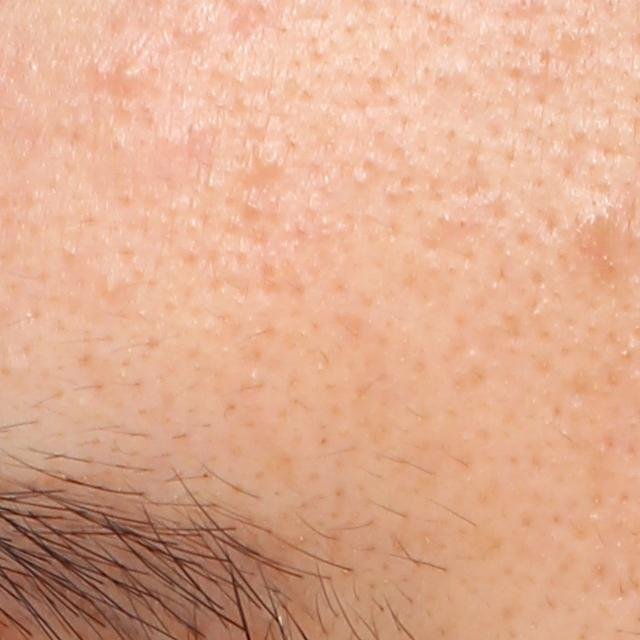comedo: (585, 194, 635, 237), (96, 268, 135, 304), (256, 143, 286, 173)
